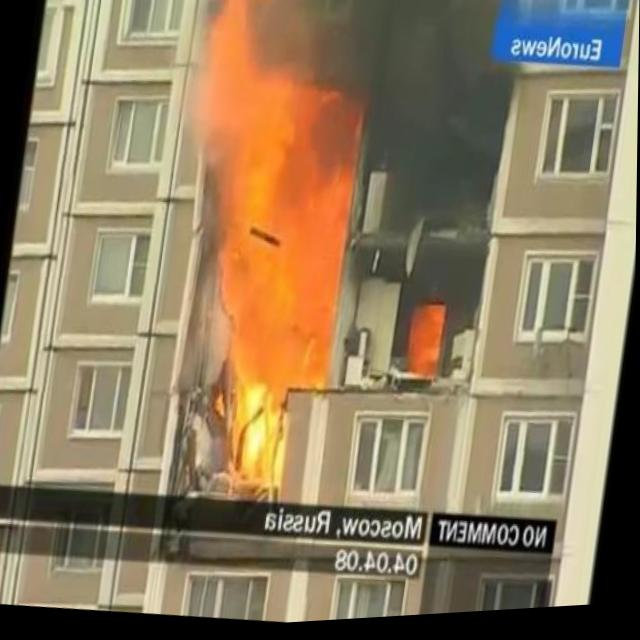fire: (151, 0, 377, 499), (400, 299, 445, 381)
